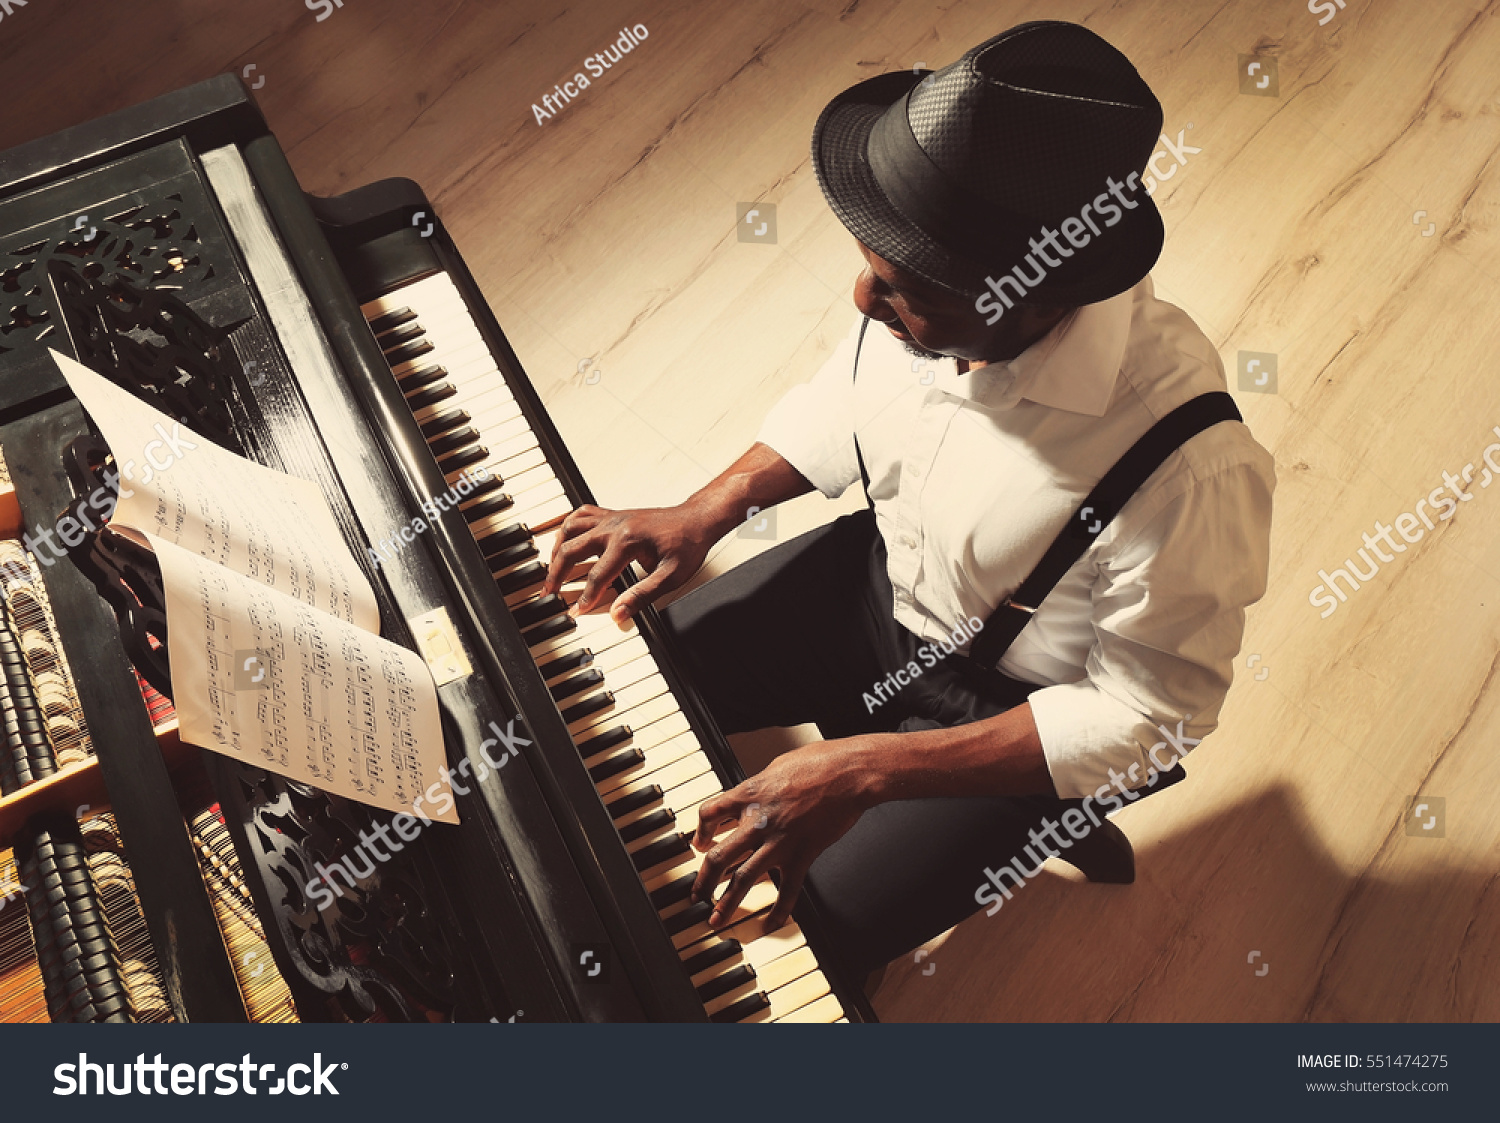Piano: (143, 64, 877, 1031)
